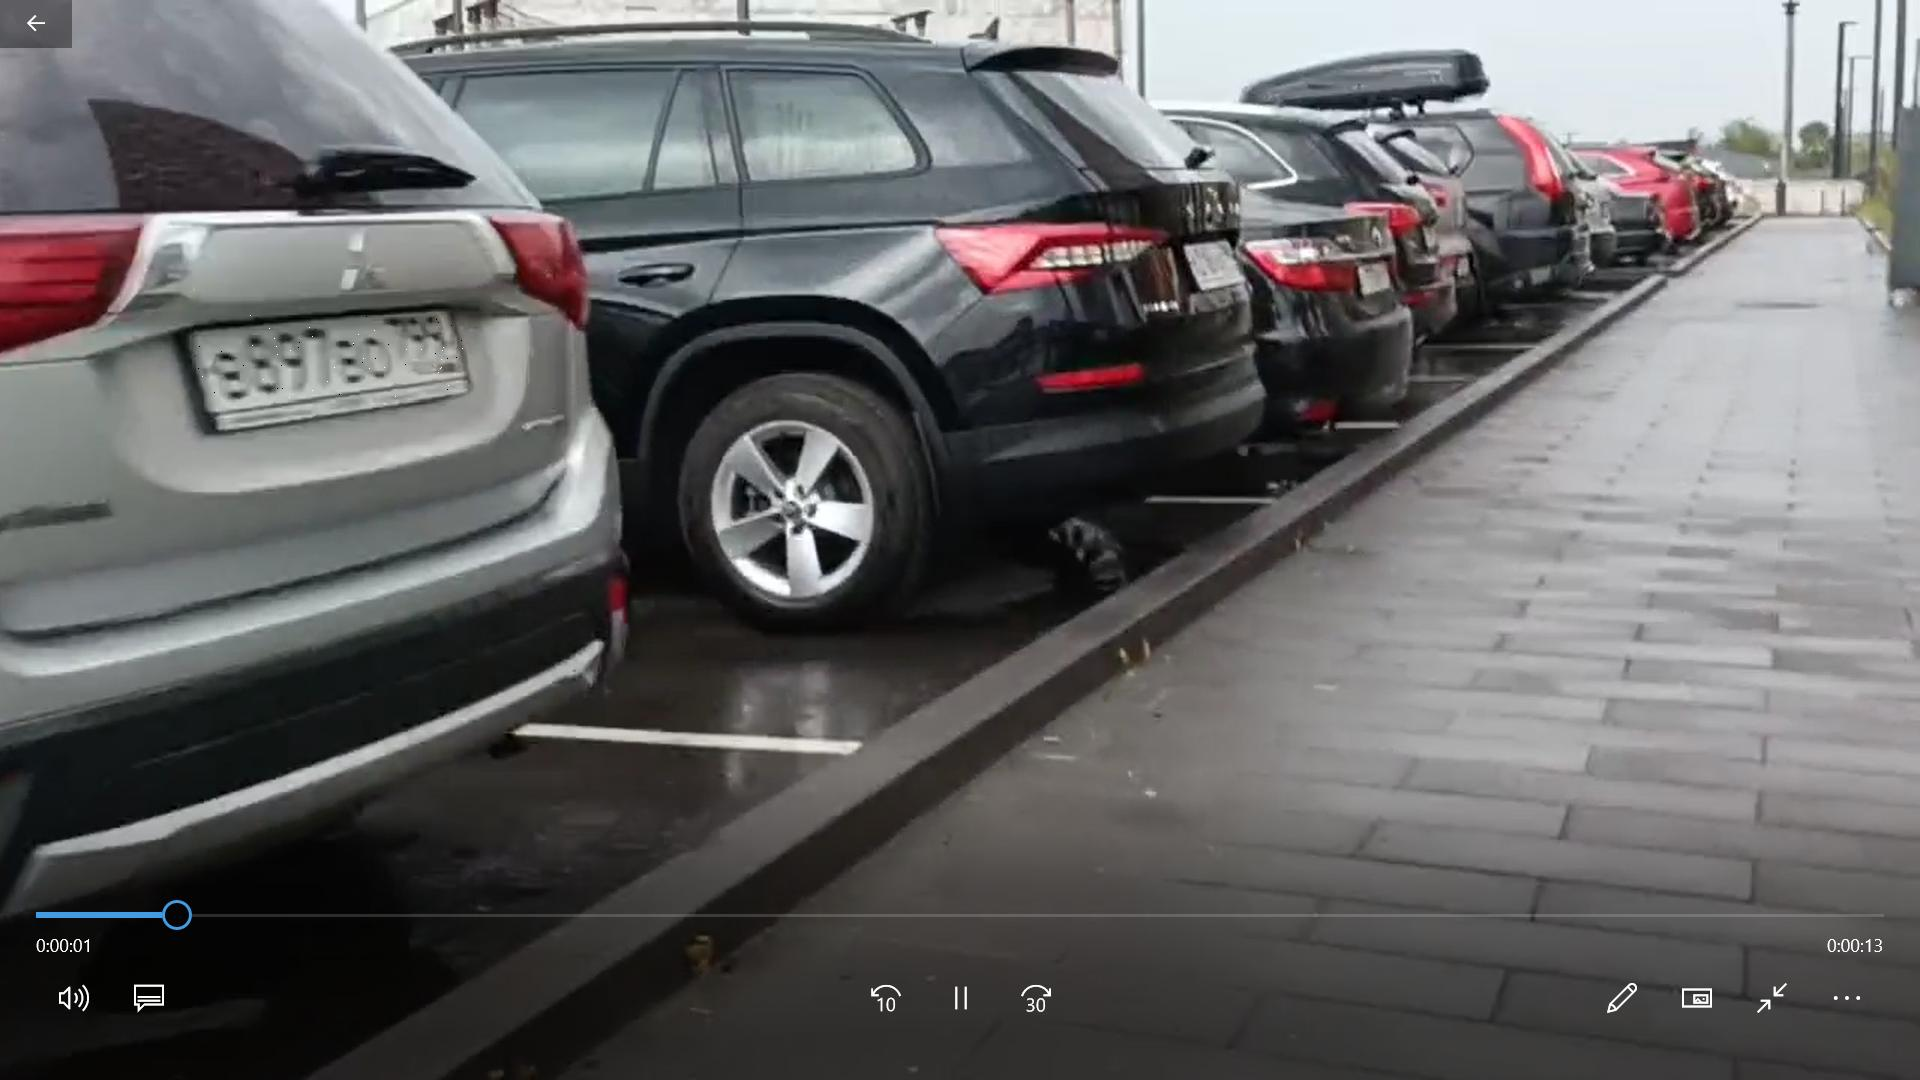plate: (195, 317, 469, 403)
